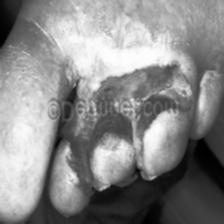Toxin: (61, 38, 194, 97), (72, 120, 90, 180), (98, 119, 128, 148), (134, 120, 150, 148)
